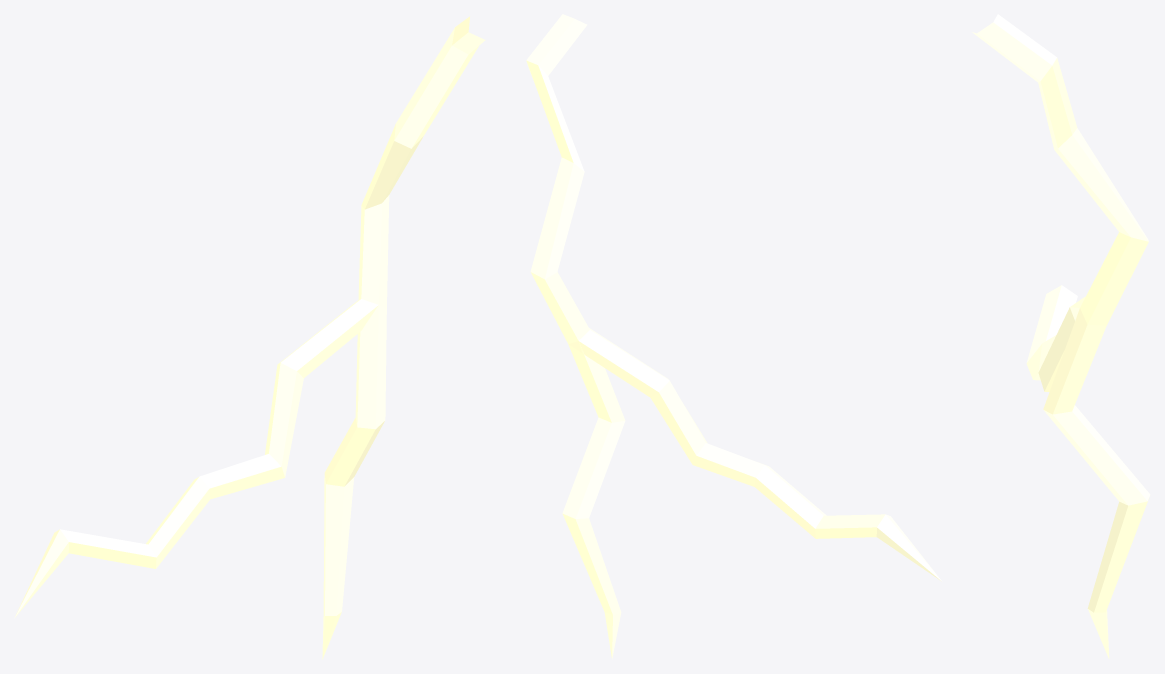
3 views of the same model, side by side, from view 1: azimuth 30°, elevation 25°; view 2: azimuth 150°, elevation 25°; view 3: azimuth 270°, elevation 25° (orthographic). The views are drawn at different scales.
Visible parts, largest first — view 1: lightning_bolt.006, lightning_bolt; view 2: lightning_bolt.006, lightning_bolt; view 3: lightning_bolt.006, lightning_bolt.
Part boxes in pixels (left/top/right/bottom): lightning_bolt.006: left=322, top=16, right=485, bottom=659; lightning_bolt: left=14, top=299, right=378, bottom=618; lightning_bolt.006: left=526, top=14, right=625, bottom=659; lightning_bolt: left=568, top=328, right=941, bottom=581; lightning_bolt.006: left=972, top=14, right=1150, bottom=658; lightning_bolt: left=1026, top=285, right=1085, bottom=391.
Size of the model in its own units: 1.17 by 1.58 by 0.3697.
